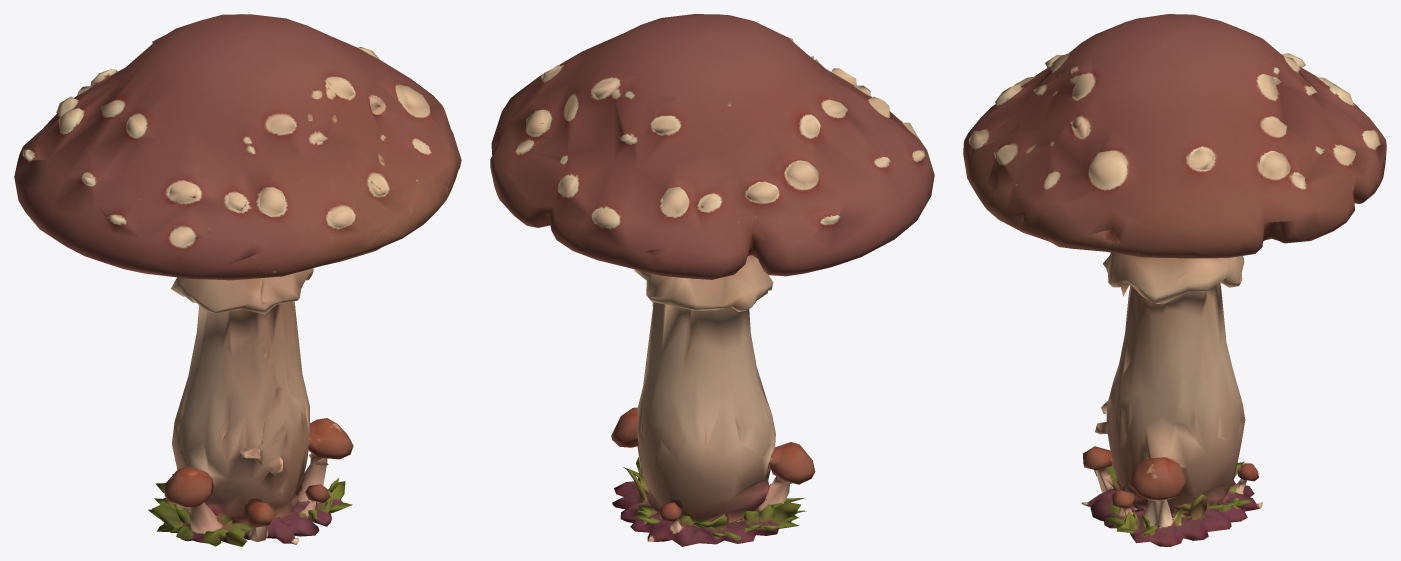
Rendered from dev_mantar.glb.
3 views of the same model, side by side, from view 1: azimuth 30°, elevation 25°; view 2: azimuth 150°, elevation 25°; view 3: azimuth 270°, elevation 25° (orthographic).
Parts seen in each view (by area): view 1: dev_mantar; view 2: dev_mantar; view 3: dev_mantar.
Boxes of the visible parts, bbox=[...] form: dev_mantar: bbox=[14, 14, 461, 546]; dev_mantar: bbox=[490, 14, 934, 546]; dev_mantar: bbox=[963, 14, 1386, 546].
Bounding box in the file's own units: 2.12 × 2.5 × 2.02.
Materials: 1 (1 with a texture image).
